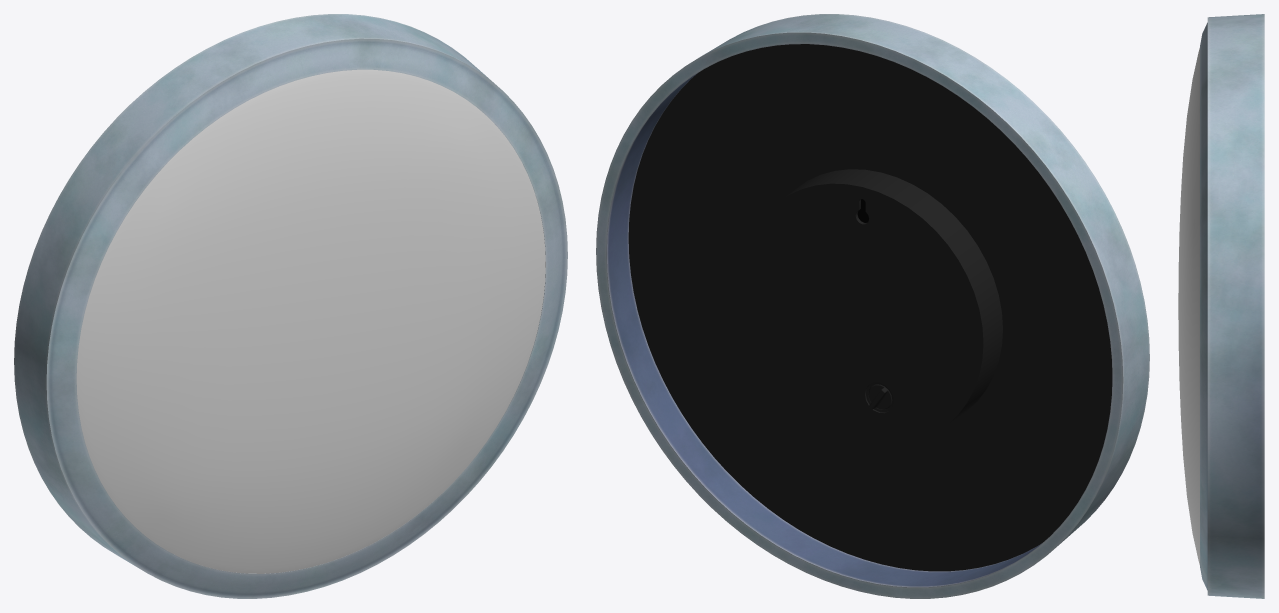
File: clock.fbx
3 renders of one model, left to right at view 1: azimuth 30°, elevation 25°; view 2: azimuth 150°, elevation 25°; view 3: azimuth 270°, elevation 25°, orthographic. The views are drawn at different scales.
Visible parts, largest first — view 1: clock; view 2: clock; view 3: clock.
Boxes of the visible parts, bbox=[...] form: clock: bbox=[14, 14, 567, 598]; clock: bbox=[596, 14, 1149, 598]; clock: bbox=[1178, 14, 1264, 598].
Size of the model in its own units: 32.05 by 32.05 by 4.72.
